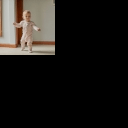baby: (12, 11, 43, 54)
